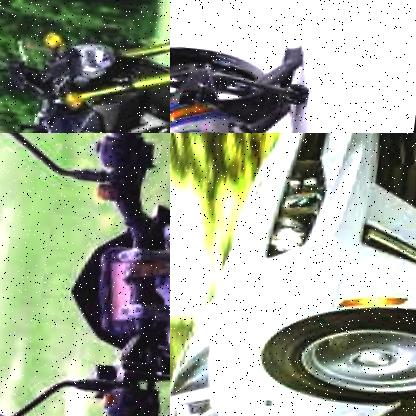bike: (0, 133, 170, 416), (170, 19, 349, 133)
car: (170, 133, 416, 416)
